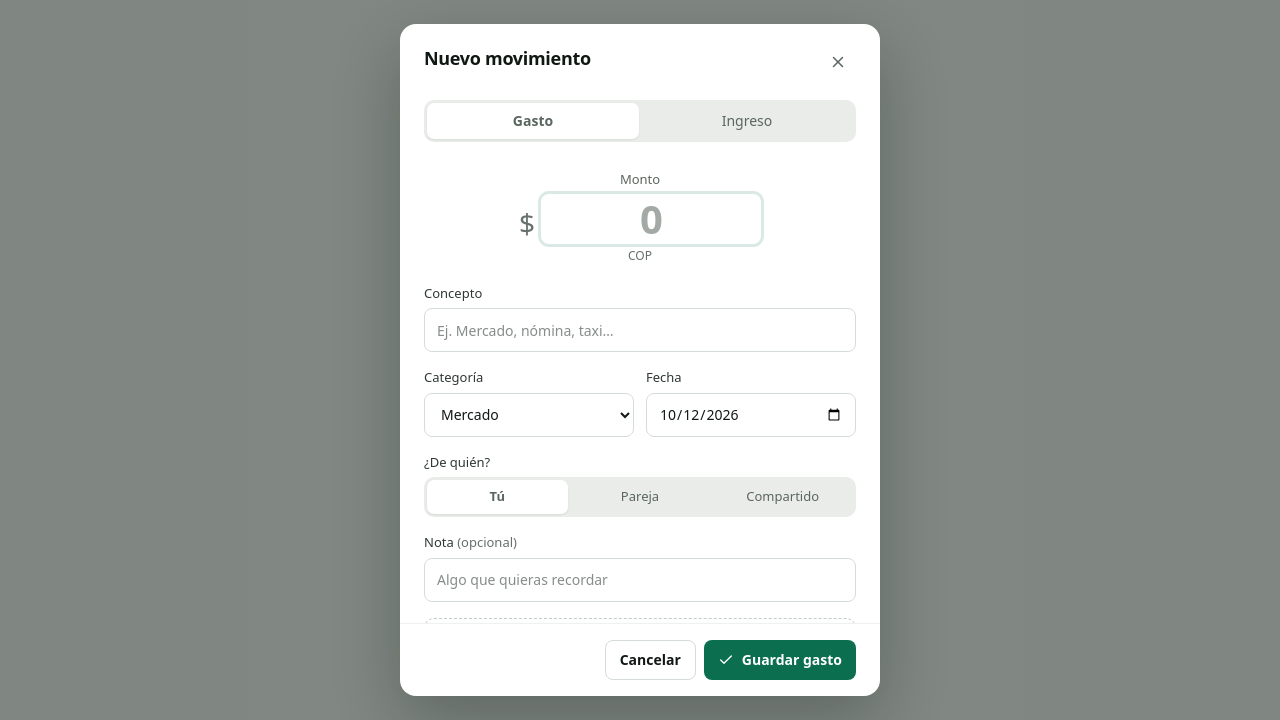
Test: TransactionModal › switches the category options with the type toggle
Click the button "Ingreso": (747, 121) [641,103,853,139]
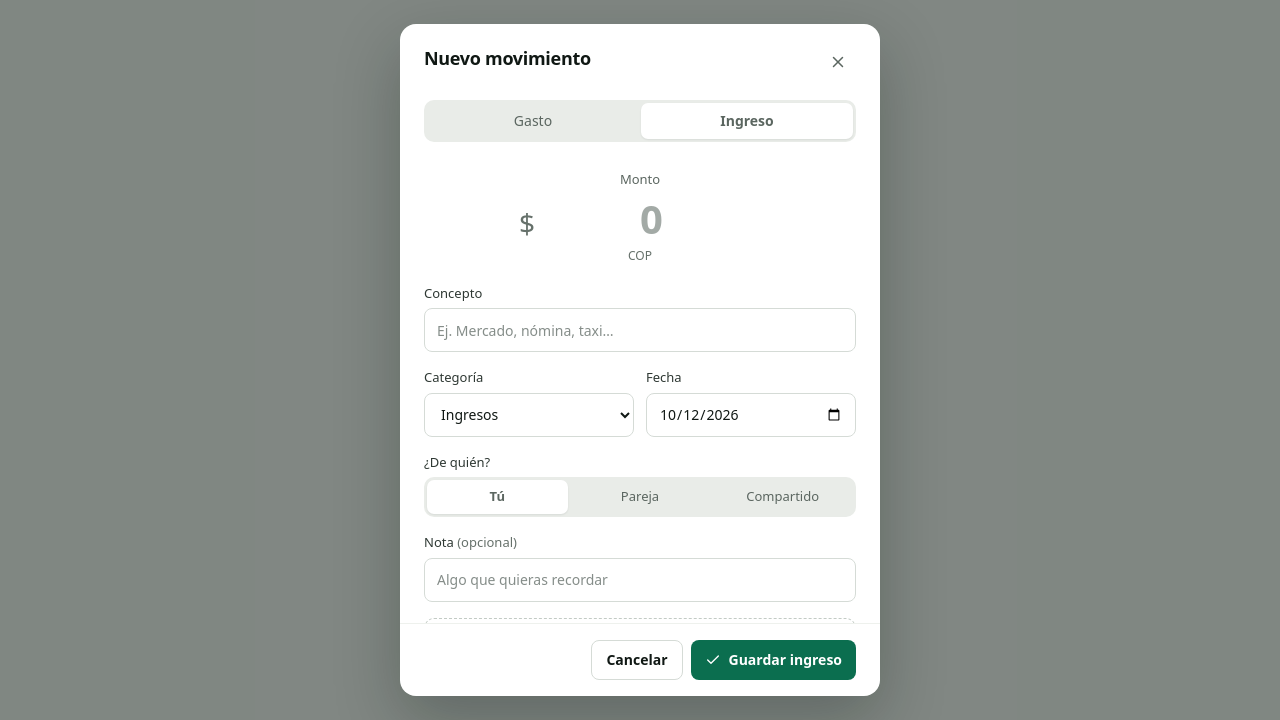
Expected: the dropdown labelled "Categoría" shows "Ingresos", [424,393,634,437]
